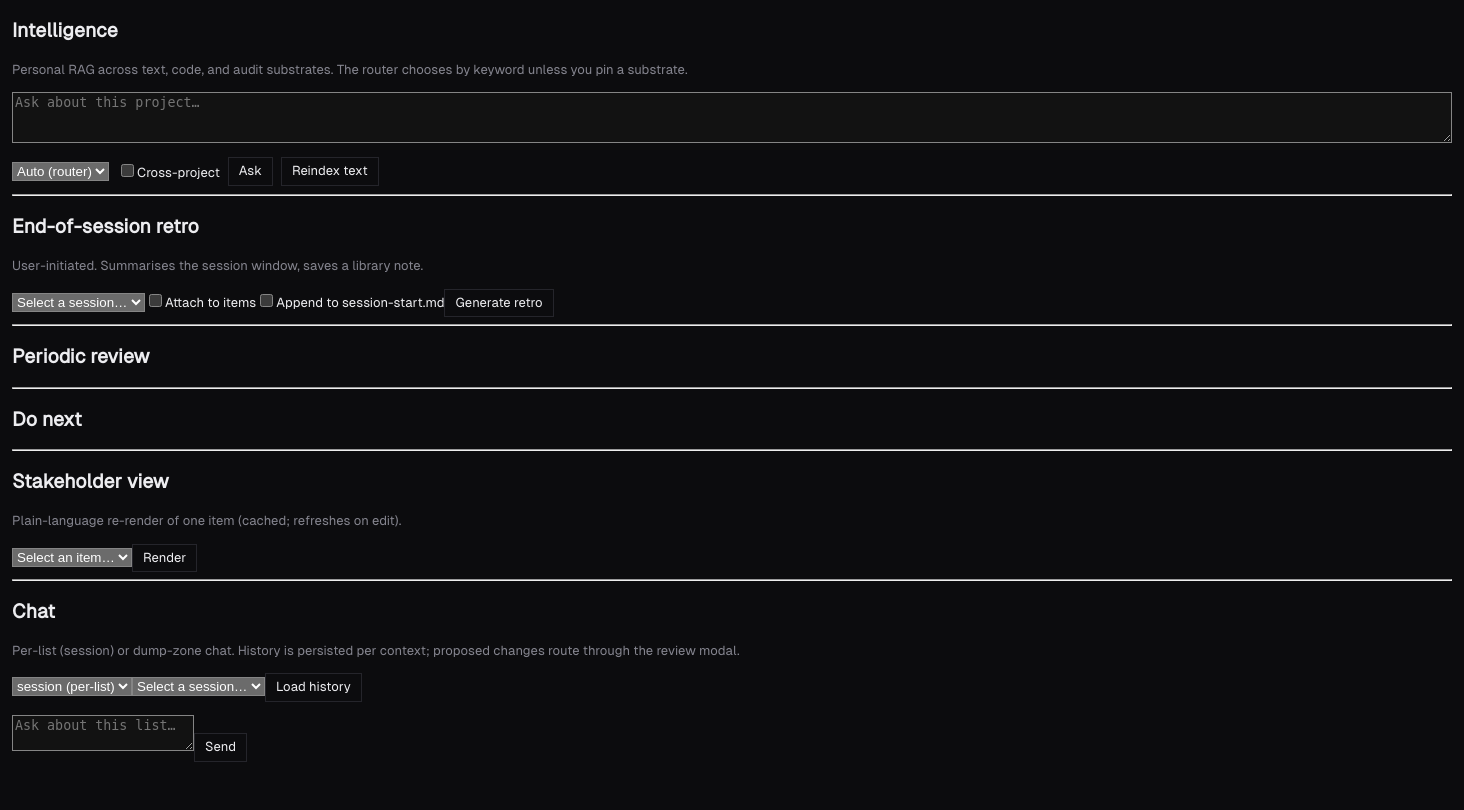
Test: Phase 14 — Intelligence (RAG) surface › loads persisted chat history for a context
Select "dump_zone" in the dropdown with test id "chat-ctx-type" at [72, 687], box [12,677,132,696]
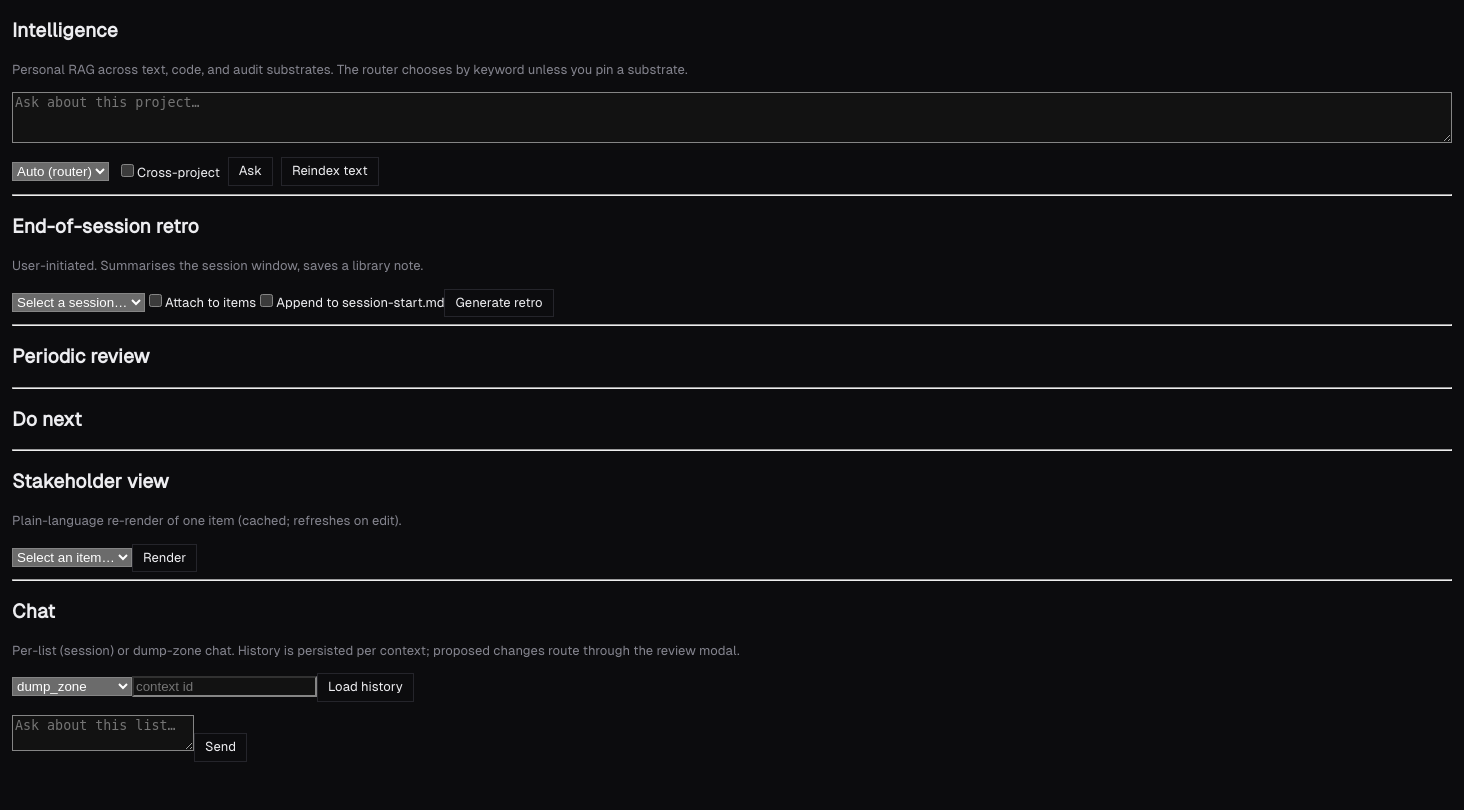
Type "p1" into the field with test id "chat-ctx-id" at [224, 687], box [132,676,317,697]
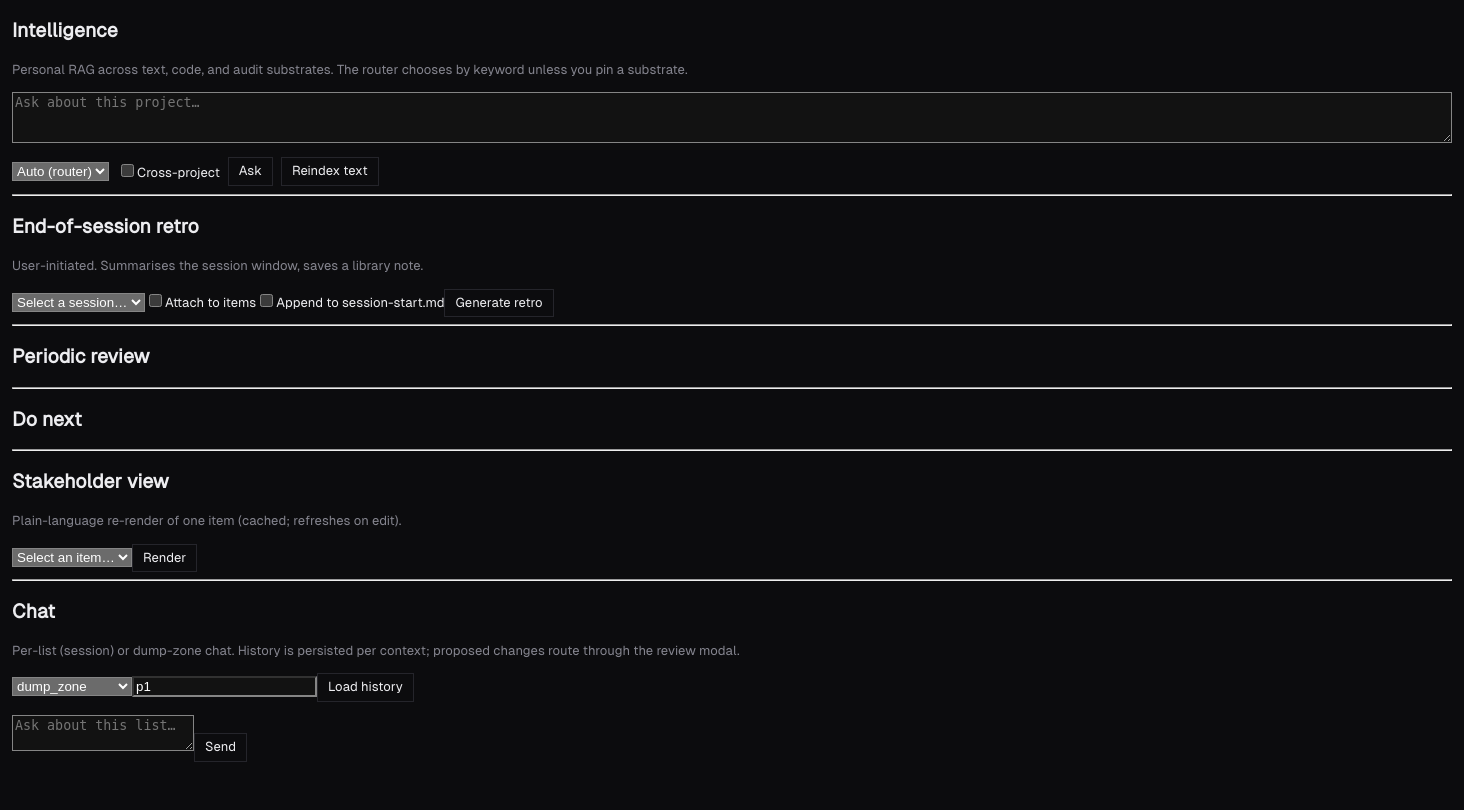
Click the button with test id "chat-load" at [365, 688], box [317,673,414,702]
(page scrolled)
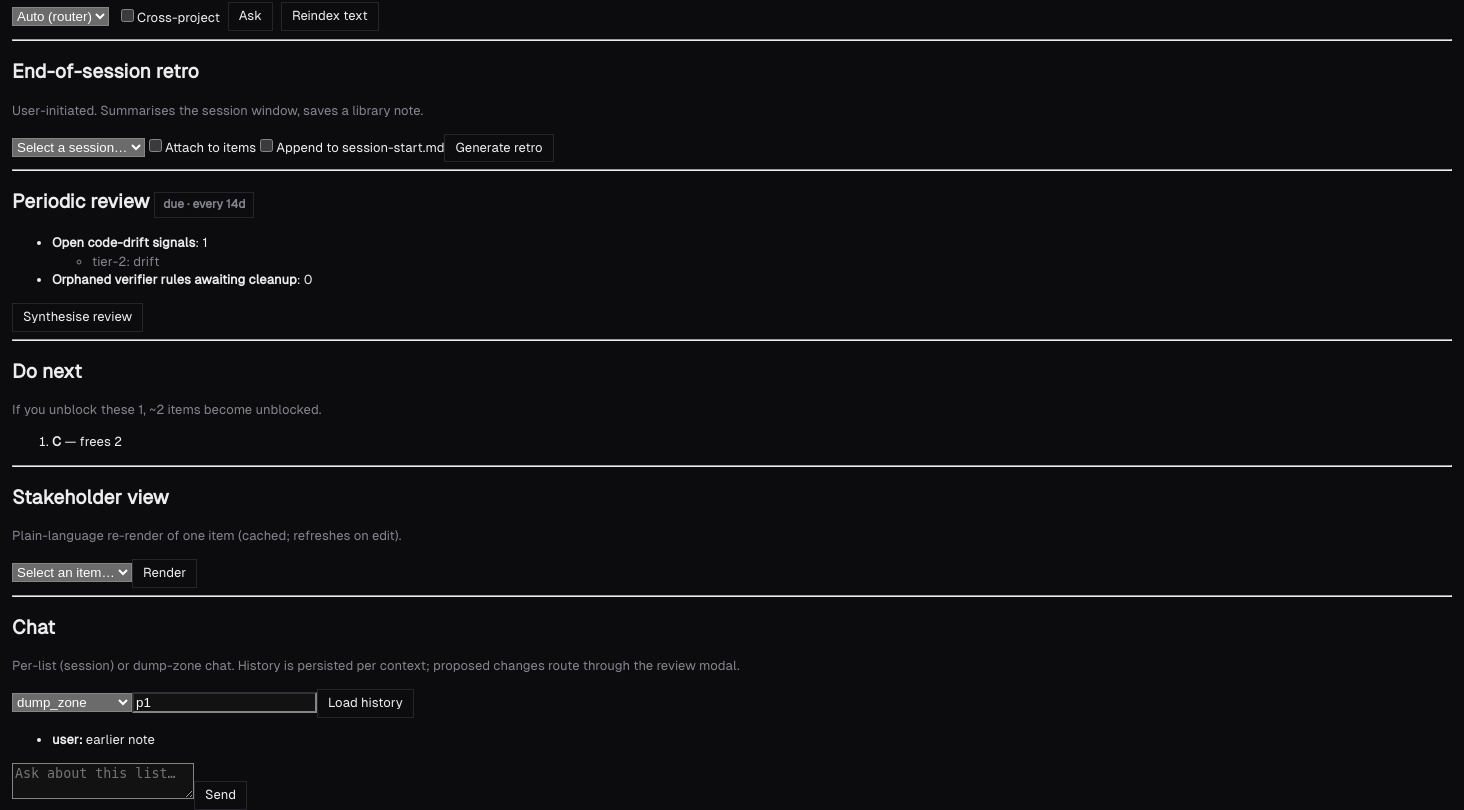
expect the list with test id "chat-log" shows "earlier note": met, box [86,732,155,747]
